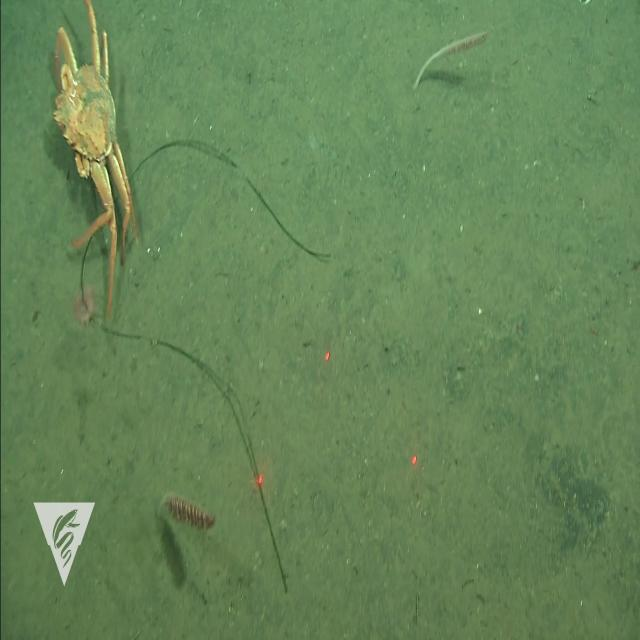Not Brittle Star: (53, 58, 118, 164)
